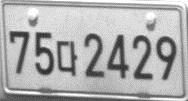2: (83, 33, 105, 79), (131, 34, 153, 80)
4: (106, 34, 130, 79)
5: (34, 31, 55, 76)
7: (8, 30, 31, 75)
9: (155, 35, 178, 81)
다: (56, 40, 78, 77)
